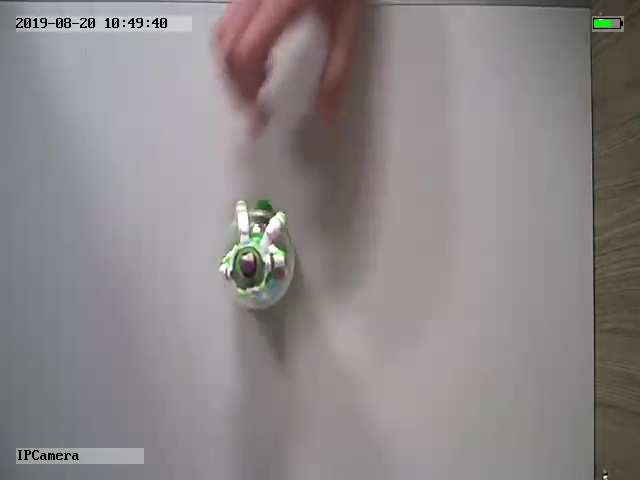buzz: (214, 197, 301, 314)
